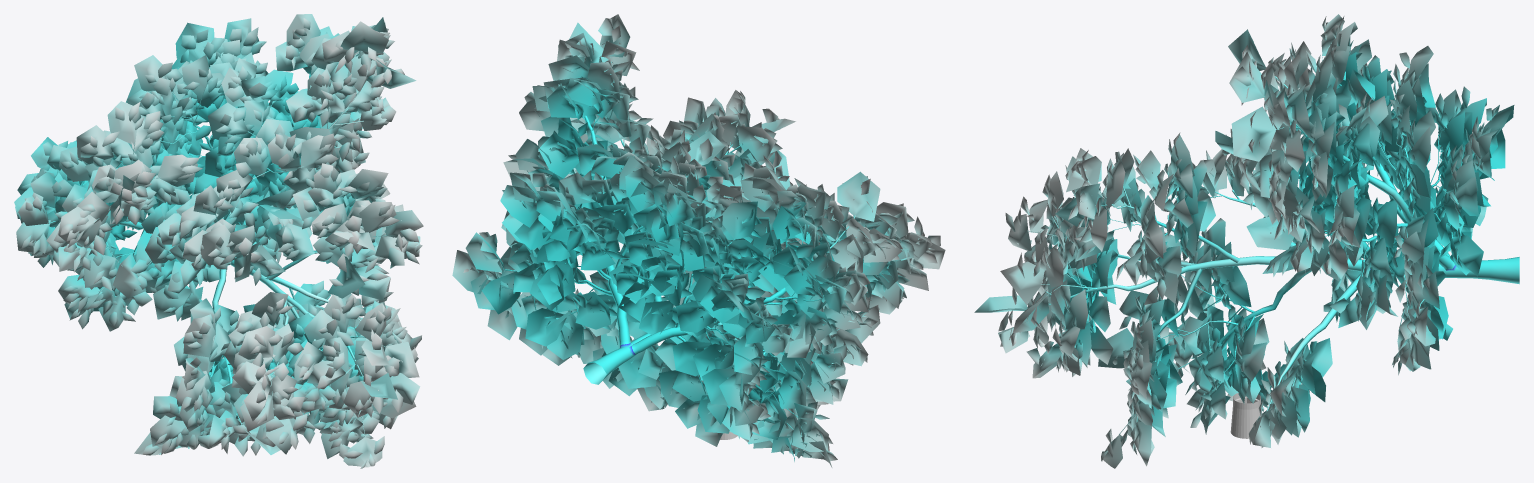
File: KIT_MapleLarge1.fbx
The picture shows the model from 3 angles, left to right: view 1: azimuth 30°, elevation 25°; view 2: azimuth 150°, elevation 25°; view 3: azimuth 270°, elevation 25°; orthographic projection. The views are drawn at different scales.
Parts seen in each view (by area): view 1: Upper_LOD0; view 2: Upper_LOD0; view 3: Upper_LOD0, Stump_LOD0.
Boxes of the visible parts, box(x1,y1,x2,y2) form: Upper_LOD0: box(14, 14, 423, 468); Upper_LOD0: box(452, 14, 945, 467); Upper_LOD0: box(974, 14, 1519, 468); Stump_LOD0: box(1230, 398, 1260, 438).
Size of what is drawn, in the model's own units: 1422 by 1400 by 1581.
